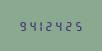five: (71, 20, 79, 31)
four: (26, 20, 34, 31), (53, 20, 61, 31)
nine: (17, 20, 25, 31)
one: (35, 20, 43, 31)
two: (44, 20, 52, 31), (62, 20, 70, 31)
